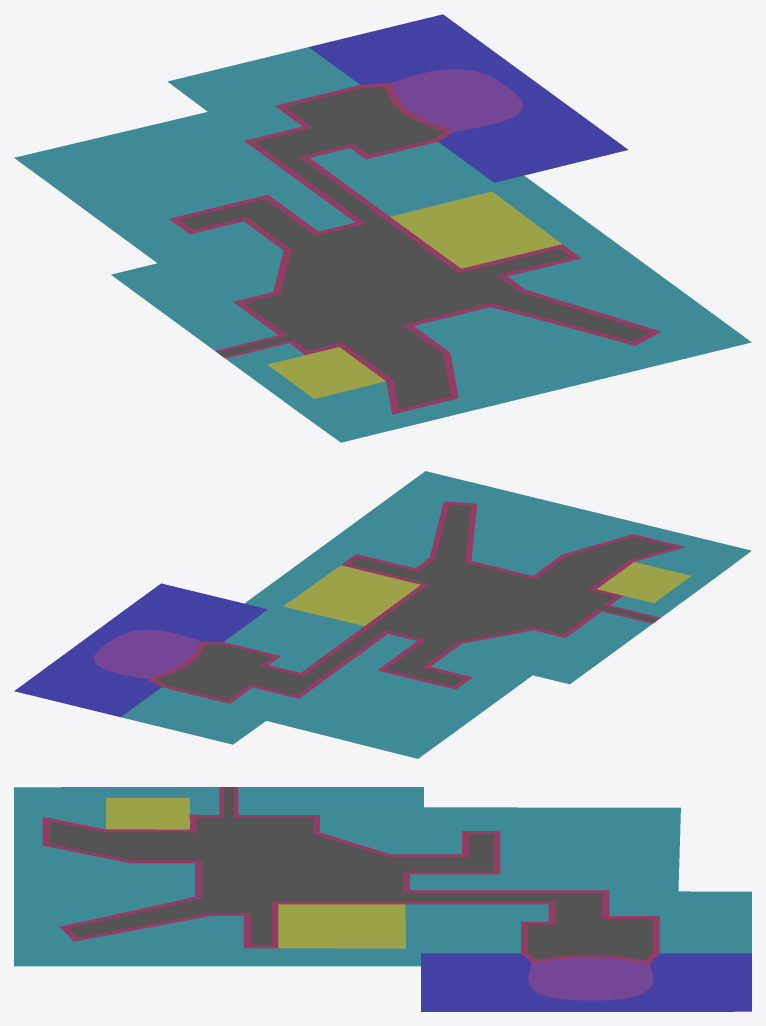
The model's file is Advertising-Hell-TEST-FBX-2.fbx.
3 views of the same model, one above another, from view 1: azimuth 30°, elevation 25°; view 2: azimuth 150°, elevation 25°; view 3: azimuth 270°, elevation 25° (orthographic). The views are drawn at different scales.
Parts seen in each view (by area): view 1: World-Layout-CITY; view 2: World-Layout-CITY; view 3: World-Layout-CITY.
Boxes of the visible parts, box(x1,y1,x2,y2) form: World-Layout-CITY: box(14, 14, 751, 442); World-Layout-CITY: box(14, 471, 751, 758); World-Layout-CITY: box(14, 787, 751, 1011).
Bounding box in the file's own units: 30700 × 0 × 42575.
